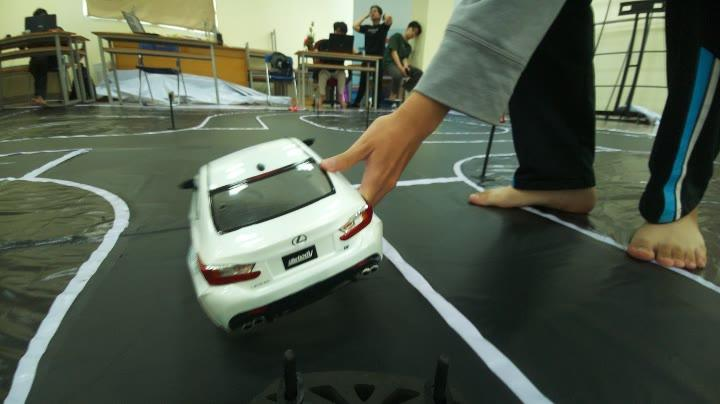car: (160, 130, 371, 318)
